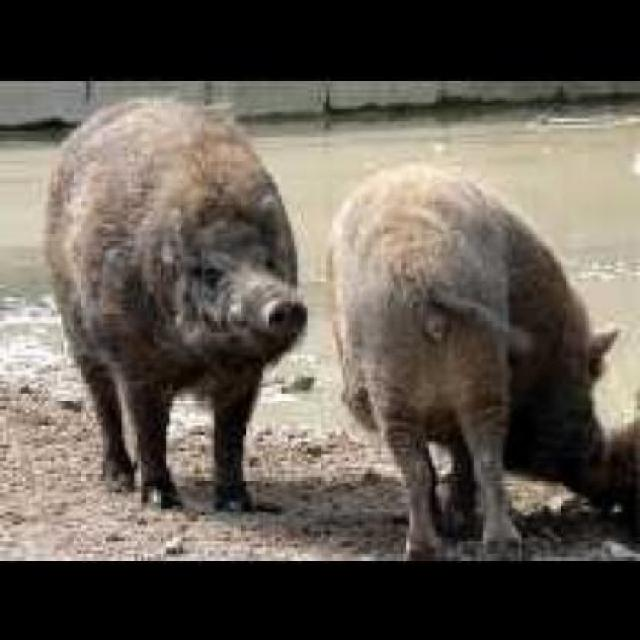pig: (317, 146, 608, 546), (25, 63, 290, 499)
